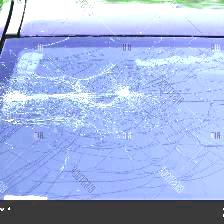glass_shatter: (5, 49, 220, 164)
